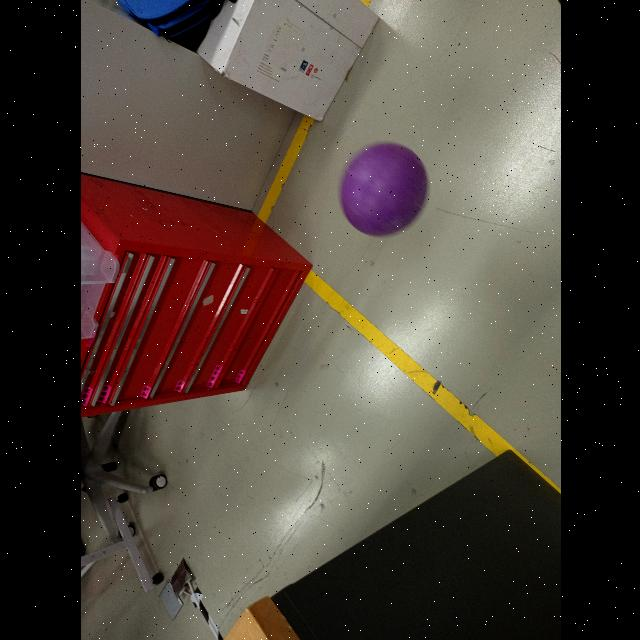P: (342, 142, 430, 238)
